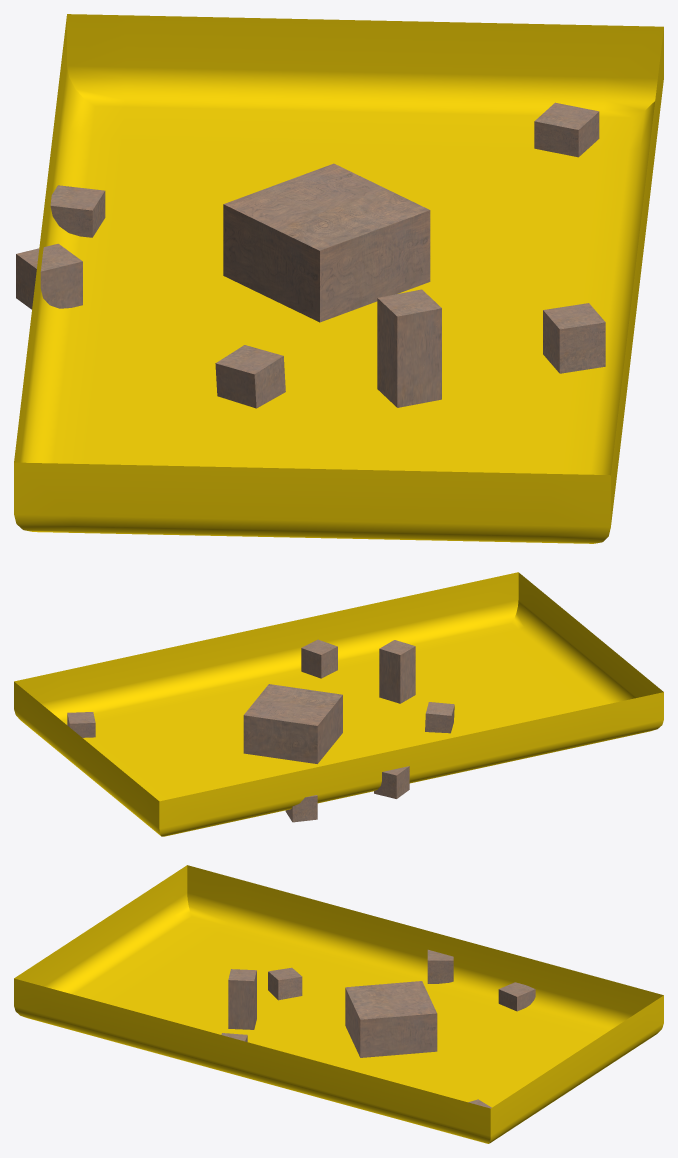
File: Level_2.fbx
The picture shows the model from 3 angles, top to bottom: view 1: azimuth 30°, elevation 25°; view 2: azimuth 150°, elevation 25°; view 3: azimuth 270°, elevation 25°; orthographic projection. The views are drawn at different scales.
Visible parts, largest first — view 1: Border, Cube_Puck_Target_Clone__1, Cube_Puck_Target_Clone__2, Cube_Puck_Target_Clone__6, Cube_Puck_Target_Clone__3, Cube_Puck_Target_Clone_, Cube_Puck_Target_Clone__5, Cube_Puck_Target_Clone__4; view 2: Border, Cube_Puck_Target_Clone__1, Cube_Puck_Target_Clone__2, Cube_Puck_Target_Clone__6, Cube_Puck_Target_Clone__3, Cube_Puck_Target_Clone_, Cube_Puck_Target_Clone__5, Cube_Puck_Target_Clone__4; view 3: Border, Cube_Puck_Target_Clone__1, Cube_Puck_Target_Clone__2, Cube_Puck_Target_Clone__3, Cube_Puck_Target_Clone__4, Cube_Puck_Target_Clone_.
Boxes of the visible parts, x1,y1,x2,y2 form: Border: [14, 14, 663, 543]; Cube_Puck_Target_Clone__1: [223, 163, 430, 322]; Cube_Puck_Target_Clone__2: [377, 289, 441, 407]; Cube_Puck_Target_Clone__6: [543, 303, 605, 373]; Cube_Puck_Target_Clone__3: [215, 345, 285, 408]; Cube_Puck_Target_Clone_: [16, 243, 82, 309]; Cube_Puck_Target_Clone__5: [534, 102, 599, 157]; Cube_Puck_Target_Clone__4: [50, 185, 105, 237]; Border: [14, 572, 663, 836]; Cube_Puck_Target_Clone__1: [243, 684, 342, 763]; Cube_Puck_Target_Clone__2: [379, 640, 415, 703]; Cube_Puck_Target_Clone__6: [301, 639, 337, 678]; Cube_Puck_Target_Clone__3: [425, 702, 454, 733]; Cube_Puck_Target_Clone_: [374, 766, 409, 798]; Cube_Puck_Target_Clone__5: [67, 712, 95, 737]; Cube_Puck_Target_Clone__4: [285, 795, 317, 822]; Border: [14, 865, 663, 1143]; Cube_Puck_Target_Clone__1: [345, 981, 437, 1057]; Cube_Puck_Target_Clone__2: [228, 969, 256, 1029]; Cube_Puck_Target_Clone__3: [268, 967, 302, 1000]; Cube_Puck_Target_Clone__4: [498, 982, 535, 1011]; Cube_Puck_Target_Clone_: [427, 949, 453, 983].
Bounding box in the file's own units: 2206 × 344 × 2489.
